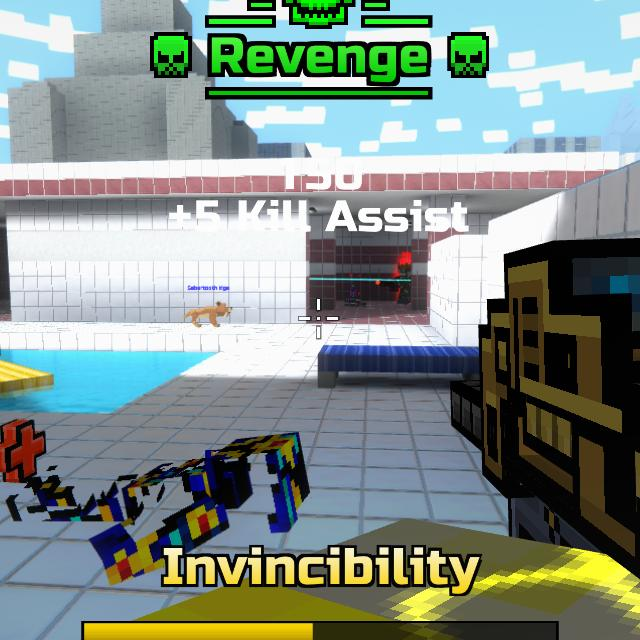Enemy: (395, 265, 411, 305)
